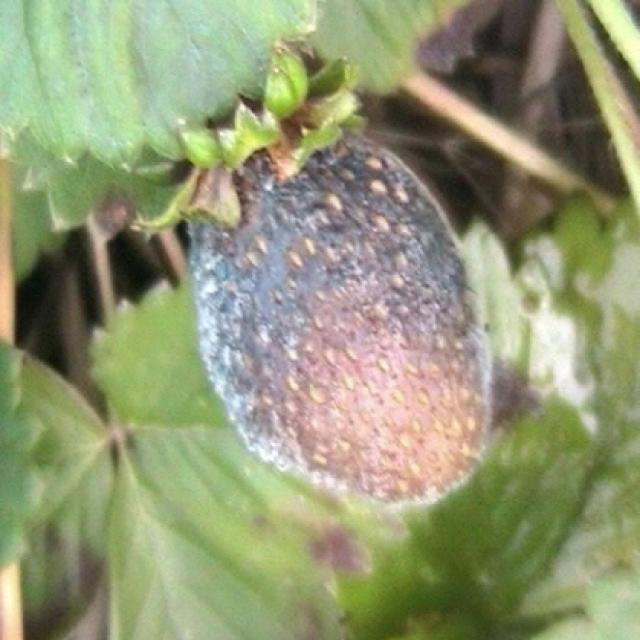Gray Mold: (184, 123, 494, 506)
